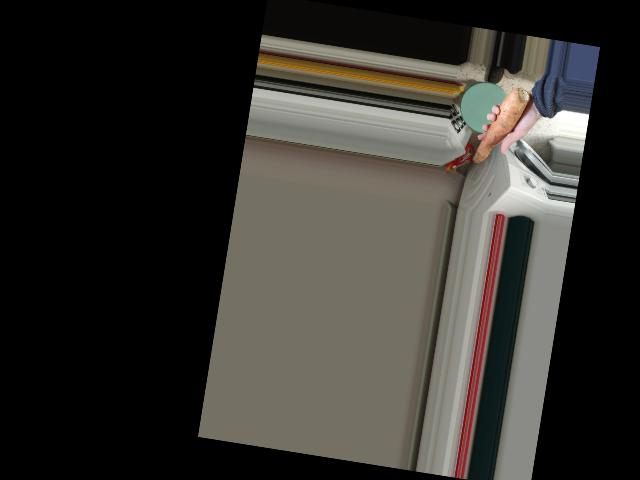sweet_potato: (467, 80, 533, 176)
